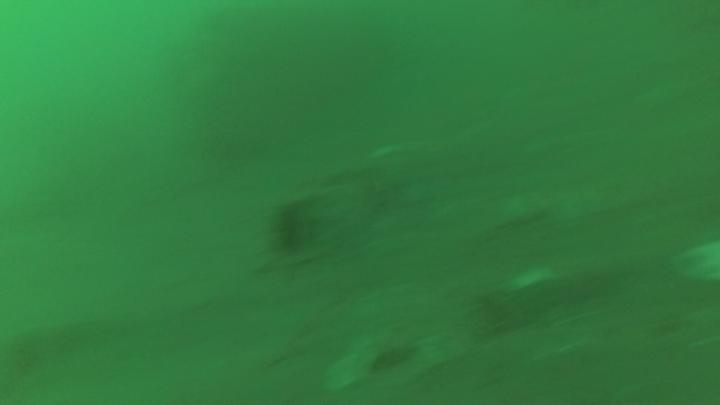echinus: (278, 198, 313, 255)
